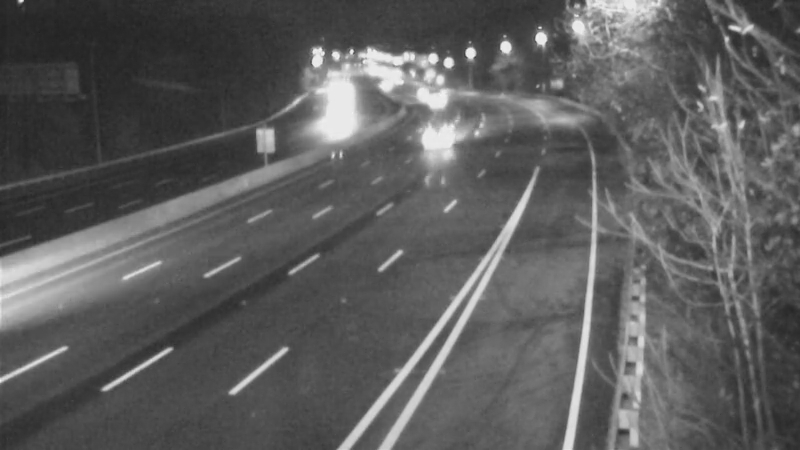vehicle: (360, 53, 410, 103), (391, 63, 441, 113), (412, 75, 462, 125), (410, 112, 460, 162), (307, 91, 357, 141)
